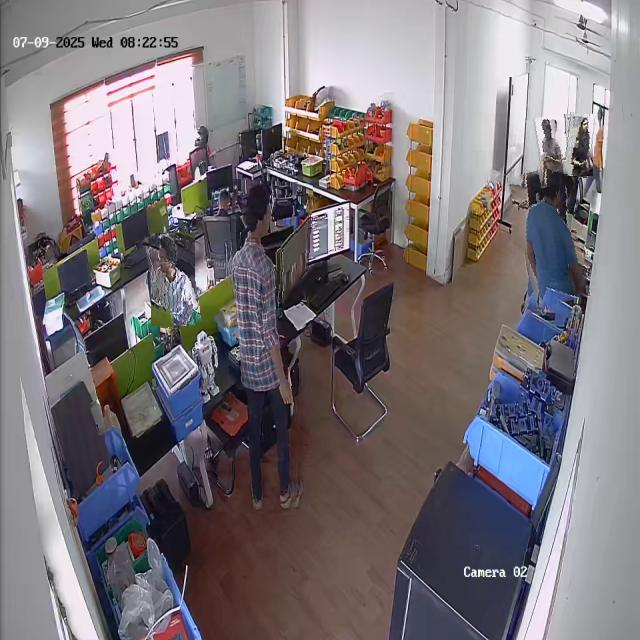person: (221, 180, 309, 515), (514, 168, 584, 306), (148, 232, 198, 327), (530, 115, 566, 187), (561, 113, 596, 177)
